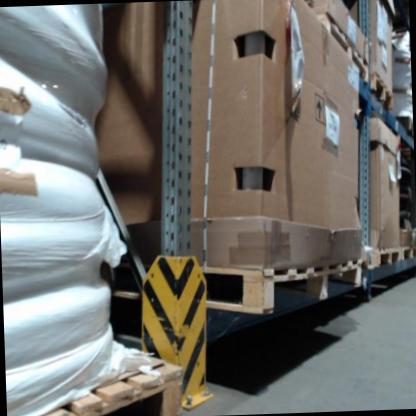pallet: (115, 253, 370, 323), (6, 339, 185, 416), (311, 6, 370, 88), (360, 241, 401, 270), (373, 67, 397, 112), (394, 108, 414, 146), (400, 242, 416, 268)
